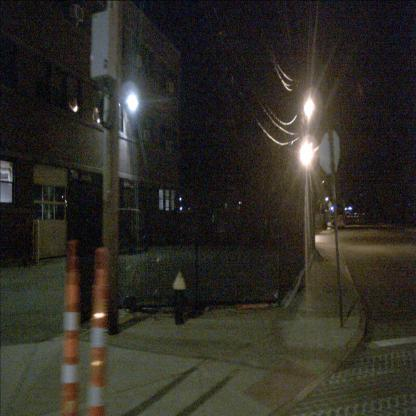cone: (50, 239, 88, 416), (80, 248, 113, 416)
